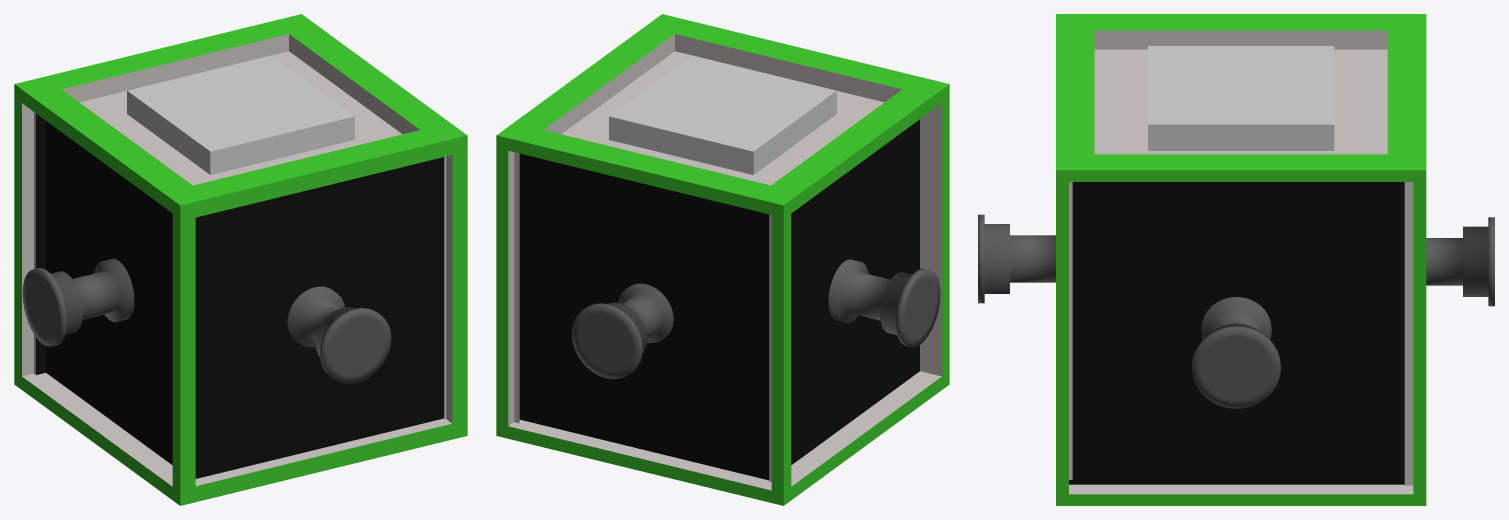
File: cubeshot.fbx
3 renders of one model, left to right at view 1: azimuth 30°, elevation 25°; view 2: azimuth 150°, elevation 25°; view 3: azimuth 270°, elevation 25°, orthographic. The views are drawn at different scales.
Visible parts, largest first — view 1: Cube, Cylinder.002, Cylinder.003; view 2: Cube, Cylinder, Cylinder.003; view 3: Cube, Cylinder.001, Cylinder.002, Cylinder.
Part boxes in pixels (x1=…): Cube: x1=14, y1=14, x2=467, y2=505; Cylinder.002: x1=287, y1=286, x2=391, y2=383; Cylinder.003: x1=22, y1=258, x2=134, y2=346; Cube: x1=496, y1=14, x2=949, y2=505; Cylinder: x1=571, y1=283, x2=673, y2=379; Cylinder.003: x1=828, y1=259, x2=940, y2=347; Cube: x1=1056, y1=14, x2=1426, y2=505; Cylinder.001: x1=1192, y1=297, x2=1280, y2=408; Cylinder.002: x1=978, y1=214, x2=1055, y2=303; Cylinder: x1=1426, y1=217, x2=1494, y2=306.
Bounding box in the file's own units: 277 × 204 × 279.
